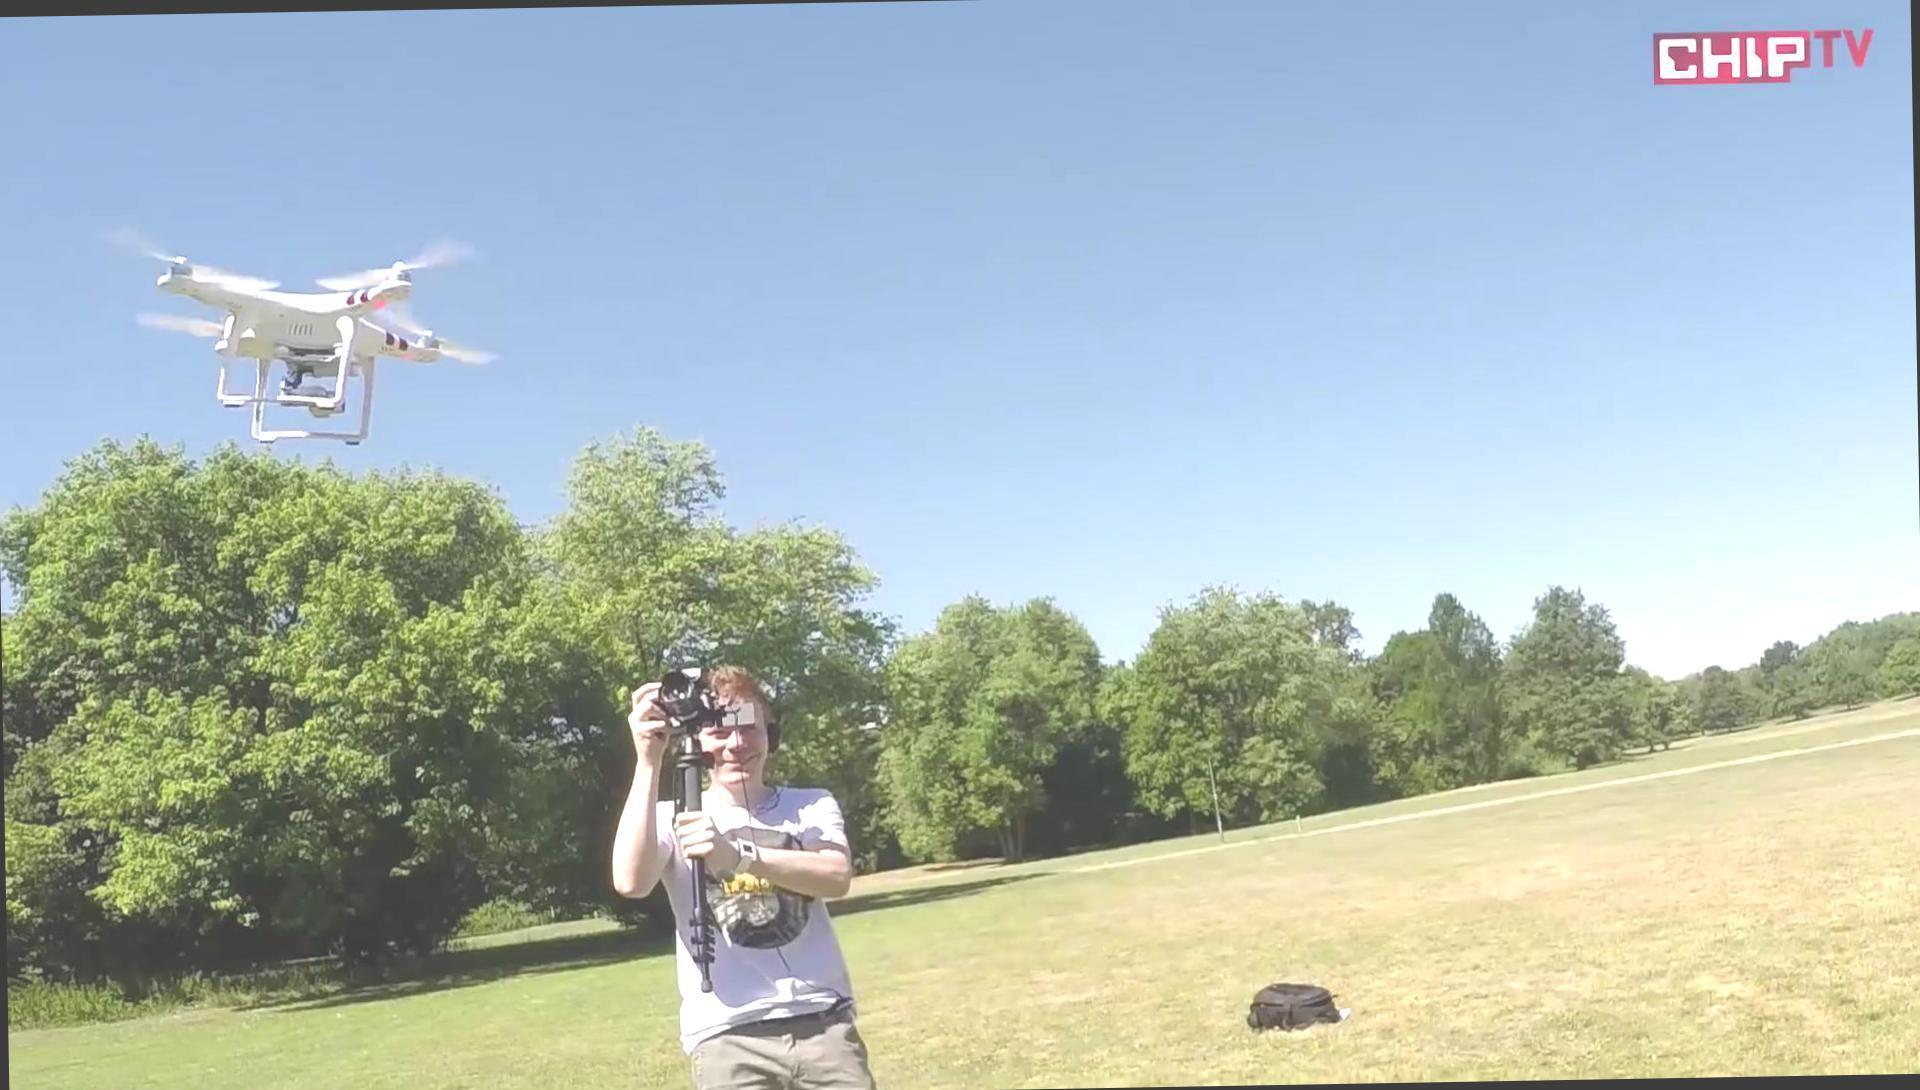drone: (108, 223, 498, 442)
